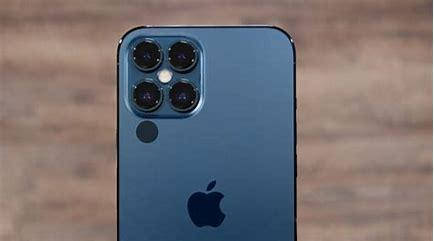-iphone13: (111, 21, 312, 241)
